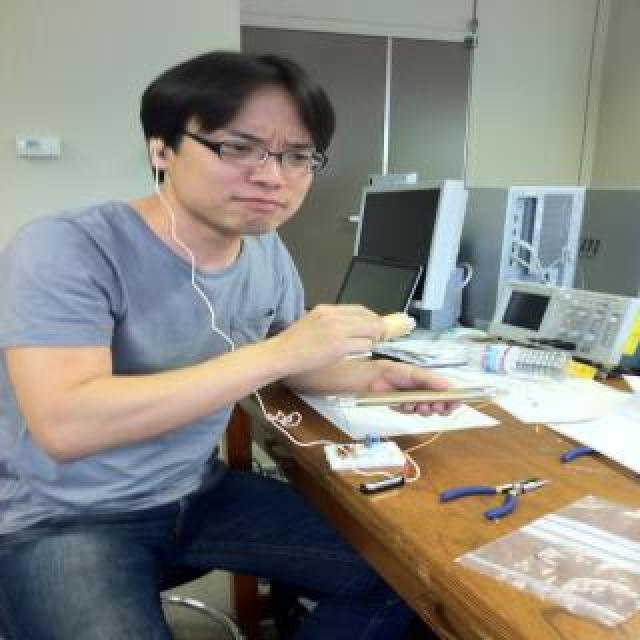earphone: (335, 250, 431, 334), (138, 131, 182, 194)
laptop_computer: (356, 165, 468, 311)
